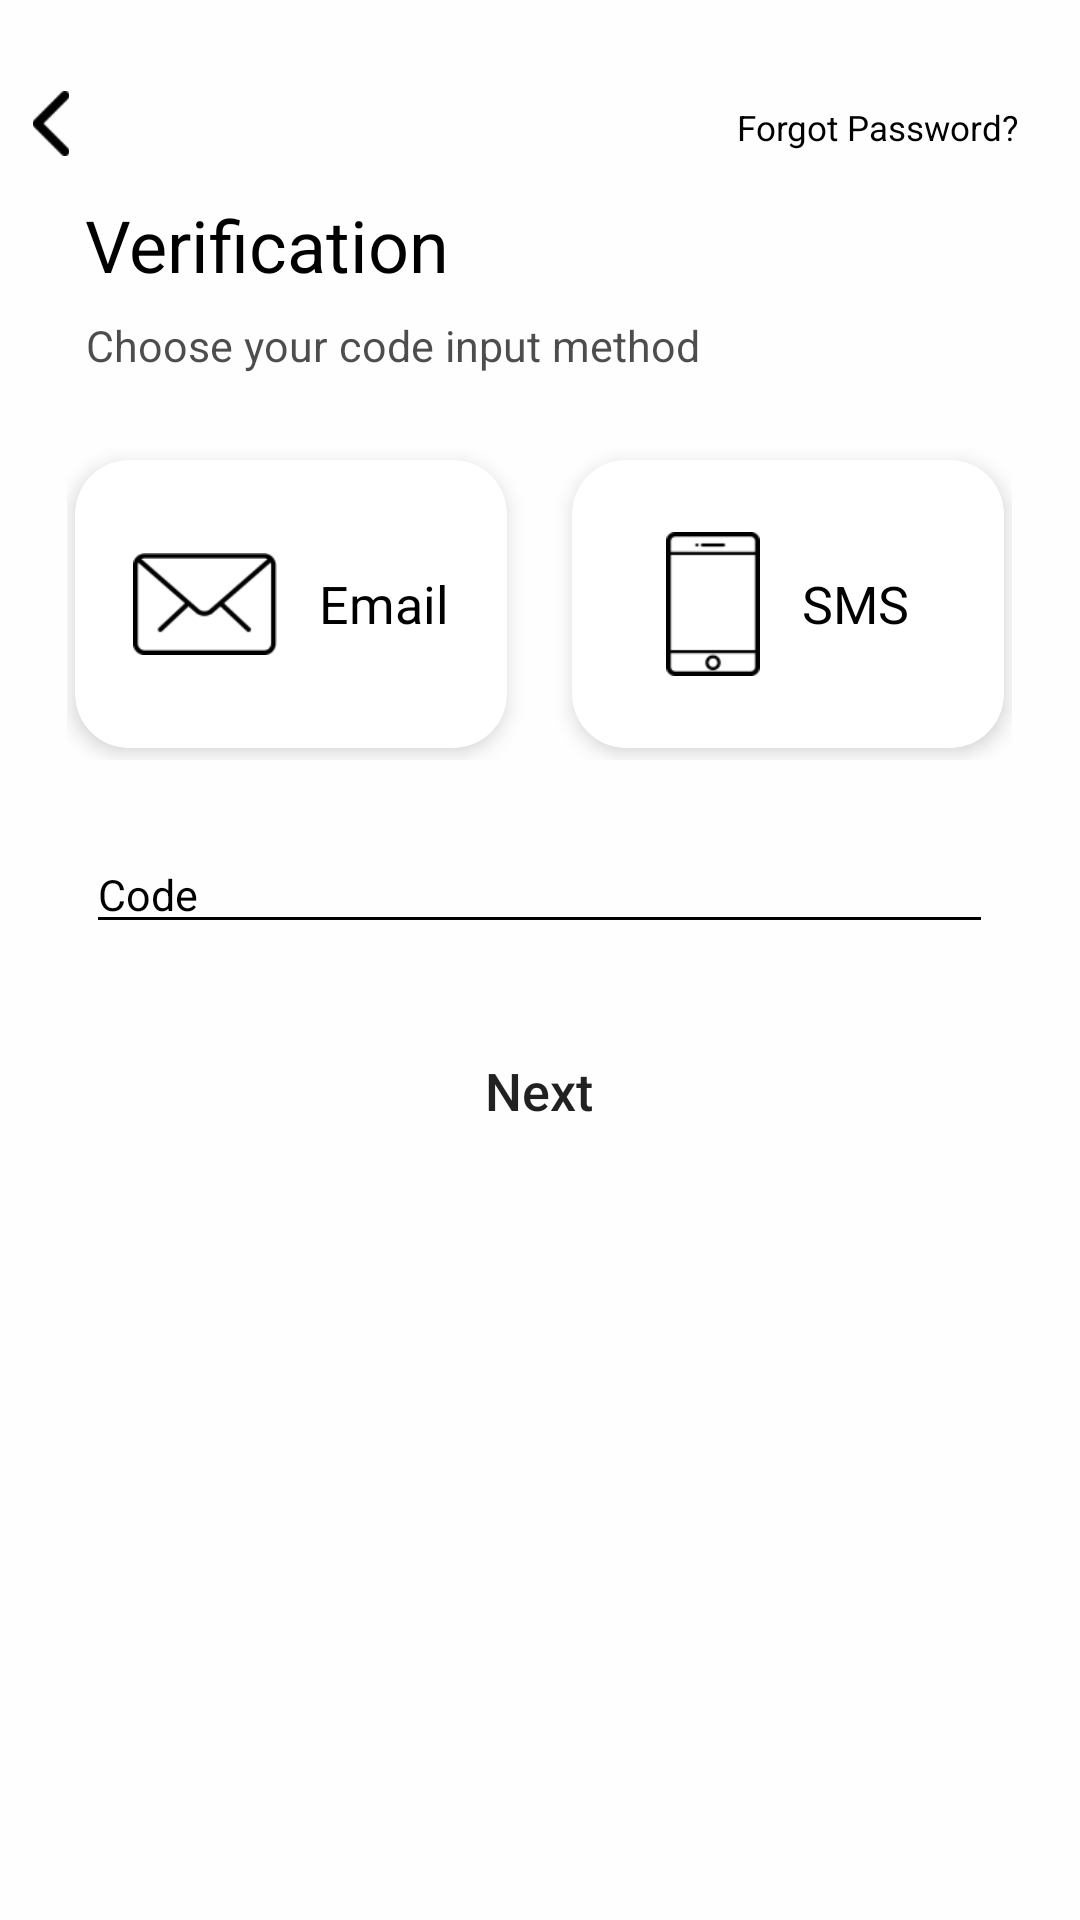

Point at icon controls on the screen. Image size 1080px×1920px, points as [x,y].
back: [51,123]
